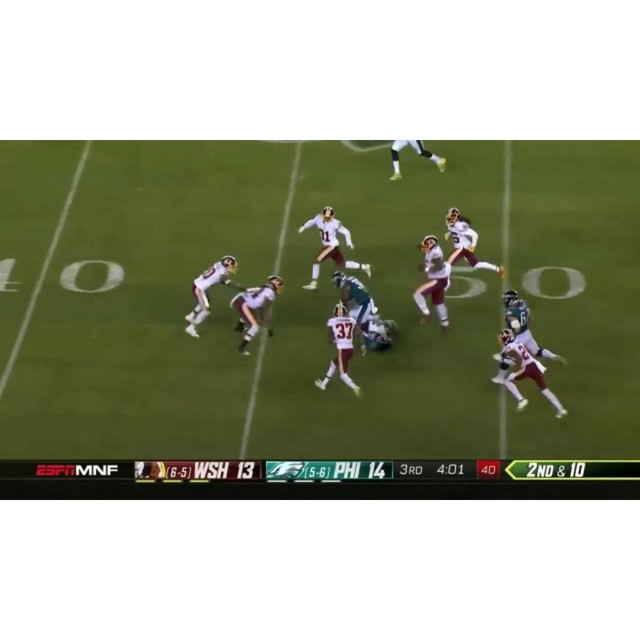american-football-player: (495, 327, 568, 419), (298, 205, 370, 291), (498, 290, 566, 370), (315, 302, 365, 400), (182, 256, 239, 340), (444, 206, 503, 283), (230, 275, 285, 356), (411, 233, 454, 334), (331, 271, 379, 332), (388, 140, 447, 181), (358, 316, 399, 356)
